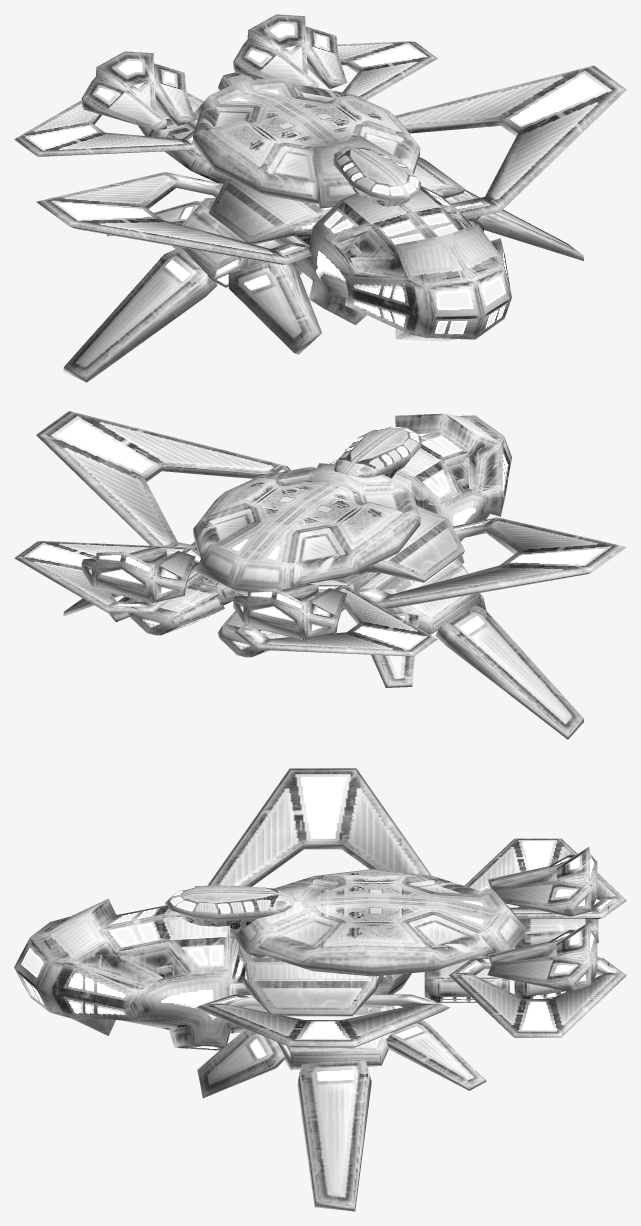
File: greenship.dae
3 renders of one model, top to bottom at view 1: azimuth 30°, elevation 25°; view 2: azimuth 150°, elevation 25°; view 3: azimuth 270°, elevation 25°, orthographic.
Parts seen in each view (by area): view 1: alotechStarshipV2; view 2: alotechStarshipV2; view 3: alotechStarshipV2.
Part boxes in pixels (x1,y1,x2,y2): alotechStarshipV2: (14,14,626,382); alotechStarshipV2: (14,411,626,739); alotechStarshipV2: (14,768,626,1211).
Size of the model in its own units: 17.21 by 16.07 by 5.68.
2 materials, 2 textured.
